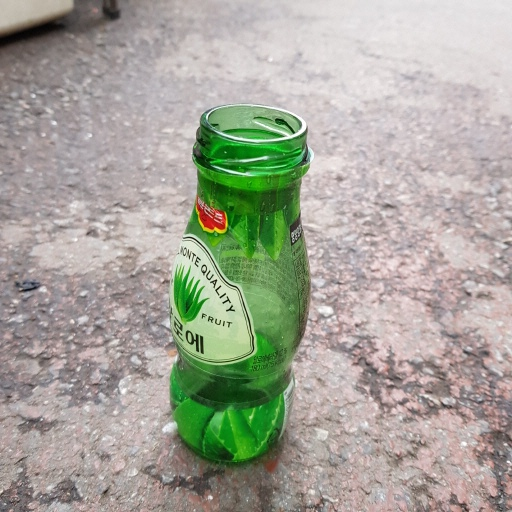Glass_4: (141, 103, 313, 467)
